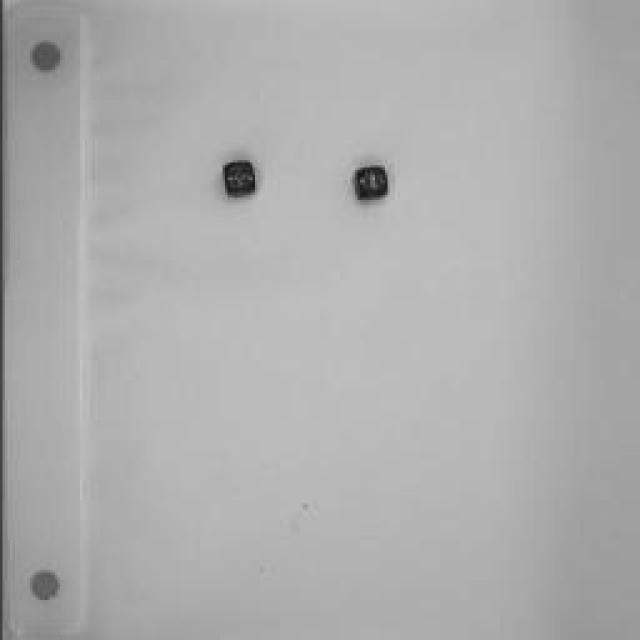dice_4: (220, 160, 258, 195)
dice_6: (351, 166, 389, 202)
